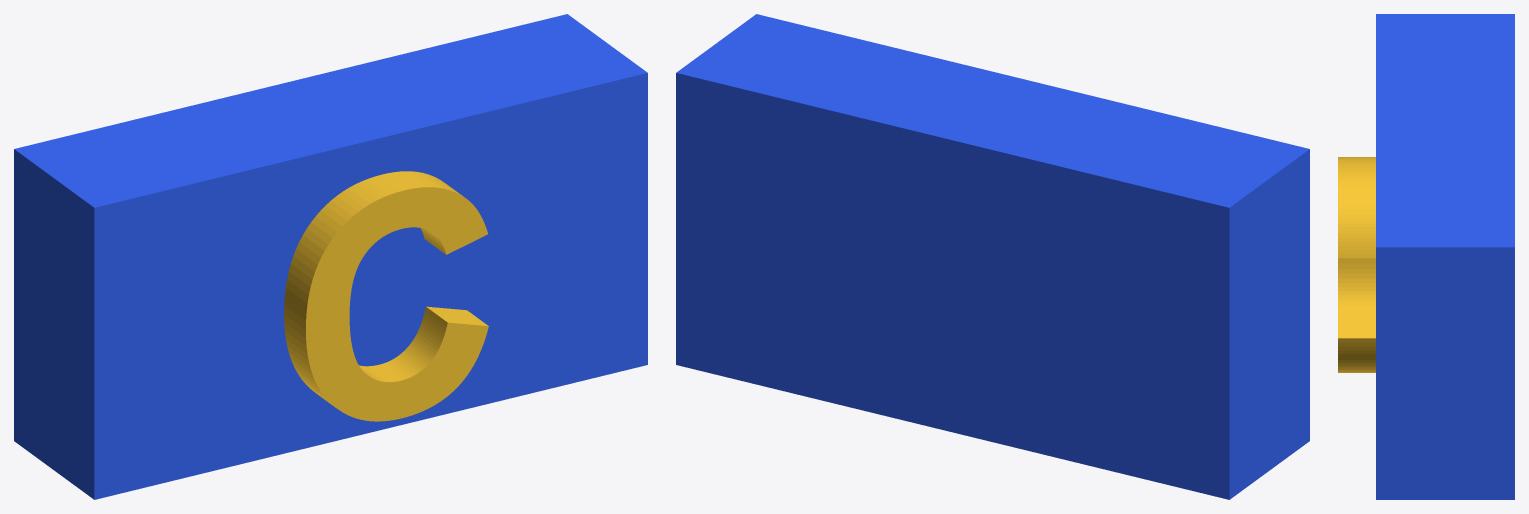
3 views of the same model, side by side, from view 1: azimuth 30°, elevation 25°; view 2: azimuth 150°, elevation 25°; view 3: azimuth 270°, elevation 25° (orthographic). The views are drawn at different scales.
Parts seen in each view (by area): view 1: Cube.001, Text.005; view 2: Cube.001; view 3: Cube.001, Text.005.
Boxes of the visible parts, x1,y1,x2,y2 form: Cube.001: [14, 14, 647, 499]; Text.005: [284, 171, 488, 421]; Cube.001: [676, 14, 1309, 499]; Cube.001: [1376, 14, 1514, 499]; Text.005: [1338, 157, 1375, 372].
Bounding box in the file's own units: 1.32 × 0.6639 × 0.421.
